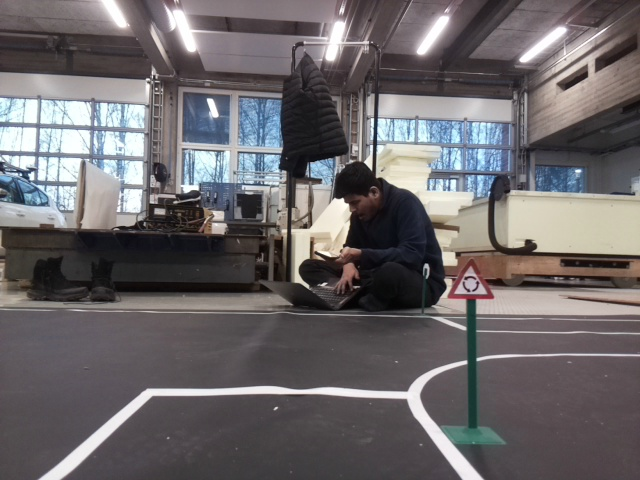Roundabout: (444, 256, 496, 297)
